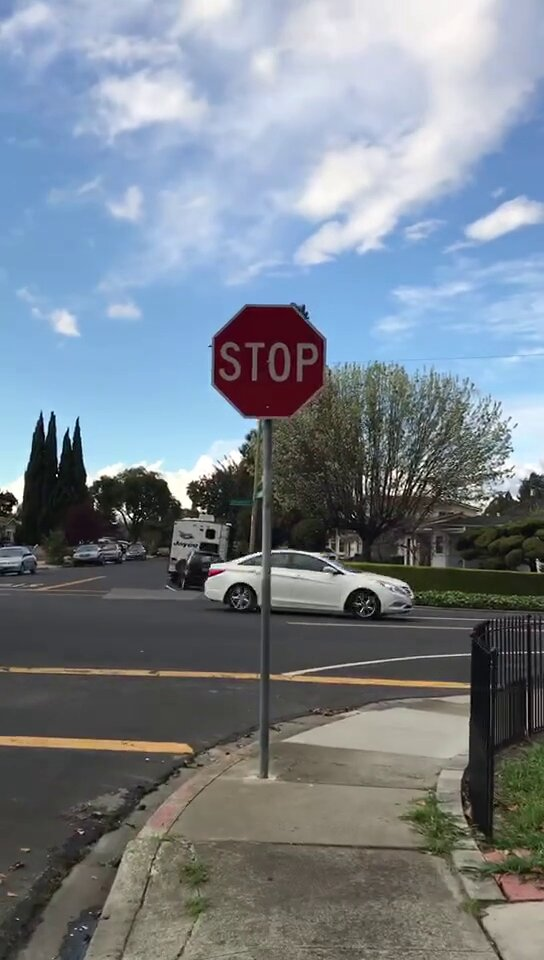stop_sign: (212, 306, 328, 416)
